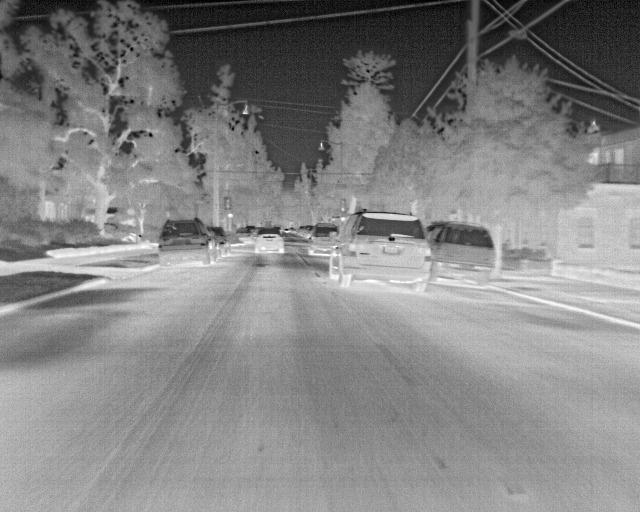bicycle: (326, 208, 433, 290), (425, 220, 496, 286), (157, 217, 219, 264), (251, 226, 286, 256), (309, 222, 337, 256), (205, 226, 229, 254), (234, 226, 254, 241), (302, 224, 317, 239)
